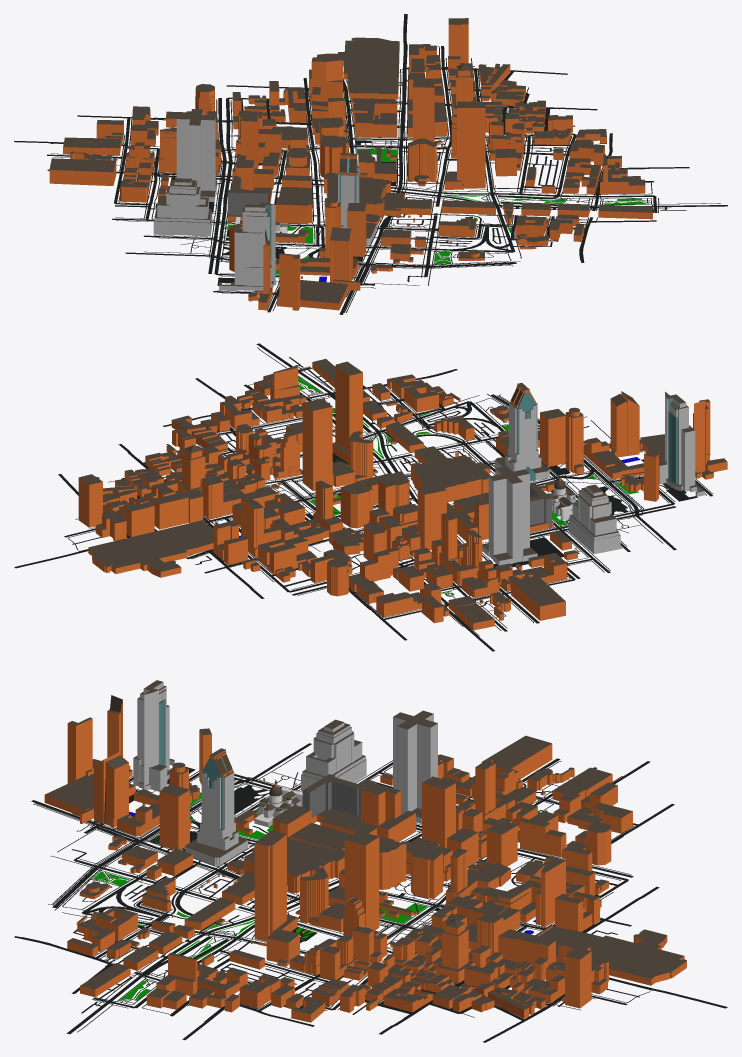
The model's file is Montreal.obj.
3 renders of one model, top to bottom at view 1: azimuth 30°, elevation 25°; view 2: azimuth 150°, elevation 25°; view 3: azimuth 270°, elevation 25°, orthographic. The views are drawn at different scales.
Visible parts, largest first — view 1: map_4.osm_buildings, map_4.osm_paths_footway, map_4.osm_roads_secondary, map_4.osm_roads_residential, map_4.osm_roads_service, map_4.osm_roads_tertiary, map_4.osm_vegetation, map_4.osm_paths_cycleway, map_4.osm_roads_trunk, map_4.osm_areas_pedestrian; view 2: map_4.osm_buildings, map_4.osm_paths_footway, map_4.osm_roads_residential, map_4.osm_roads_secondary, map_4.osm_roads_service, map_4.osm_areas_pedestrian, map_4.osm_vegetation, map_4.osm_roads_tertiary; view 3: map_4.osm_buildings, map_4.osm_paths_footway, map_4.osm_roads_secondary, map_4.osm_roads_residential, map_4.osm_roads_service, map_4.osm_vegetation, map_4.osm_areas_pedestrian, map_4.osm_roads_trunk, map_4.osm_paths_cycleway, map_4.osm_roads_tertiary, map_4.osm_roads_primary.
Part boxes in pixels (x1,y1,x2,y2): map_4.osm_buildings: [49, 18, 652, 310]; map_4.osm_paths_footway: [51, 46, 720, 312]; map_4.osm_roads_secondary: [47, 14, 727, 314]; map_4.osm_roads_residential: [14, 67, 689, 312]; map_4.osm_roads_service: [136, 66, 686, 281]; map_4.osm_roads_tertiary: [114, 46, 574, 225]; map_4.osm_vegetation: [152, 149, 648, 274]; map_4.osm_paths_cycleway: [220, 44, 584, 312]; map_4.osm_roads_trunk: [433, 195, 595, 252]; map_4.osm_areas_pedestrian: [155, 140, 456, 285]; map_4.osm_buildings: [78, 359, 727, 630]; map_4.osm_paths_footway: [67, 347, 713, 635]; map_4.osm_roads_residential: [58, 367, 712, 651]; map_4.osm_roads_secondary: [14, 343, 676, 623]; map_4.osm_roads_service: [72, 357, 667, 606]; map_4.osm_areas_pedestrian: [306, 453, 697, 568]; map_4.osm_vegetation: [298, 376, 638, 596]; map_4.osm_roads_tertiary: [64, 446, 574, 620]; map_4.osm_buildings: [44, 680, 686, 1022]; map_4.osm_paths_footway: [33, 752, 650, 1032]; map_4.osm_roads_secondary: [31, 758, 727, 1034]; map_4.osm_roads_residential: [14, 743, 674, 1042]; map_4.osm_roads_service: [72, 783, 639, 1014]; map_4.osm_vegetation: [92, 792, 545, 1001]; map_4.osm_areas_pedestrian: [129, 767, 457, 943]; map_4.osm_roads_trunk: [82, 887, 229, 975]; map_4.osm_paths_cycleway: [22, 781, 652, 990]; map_4.osm_roads_tertiary: [237, 777, 639, 1010]; map_4.osm_roads_primary: [52, 778, 251, 908].
Size of the model in its own units: 39.11 by 5.97 by 39.37.
